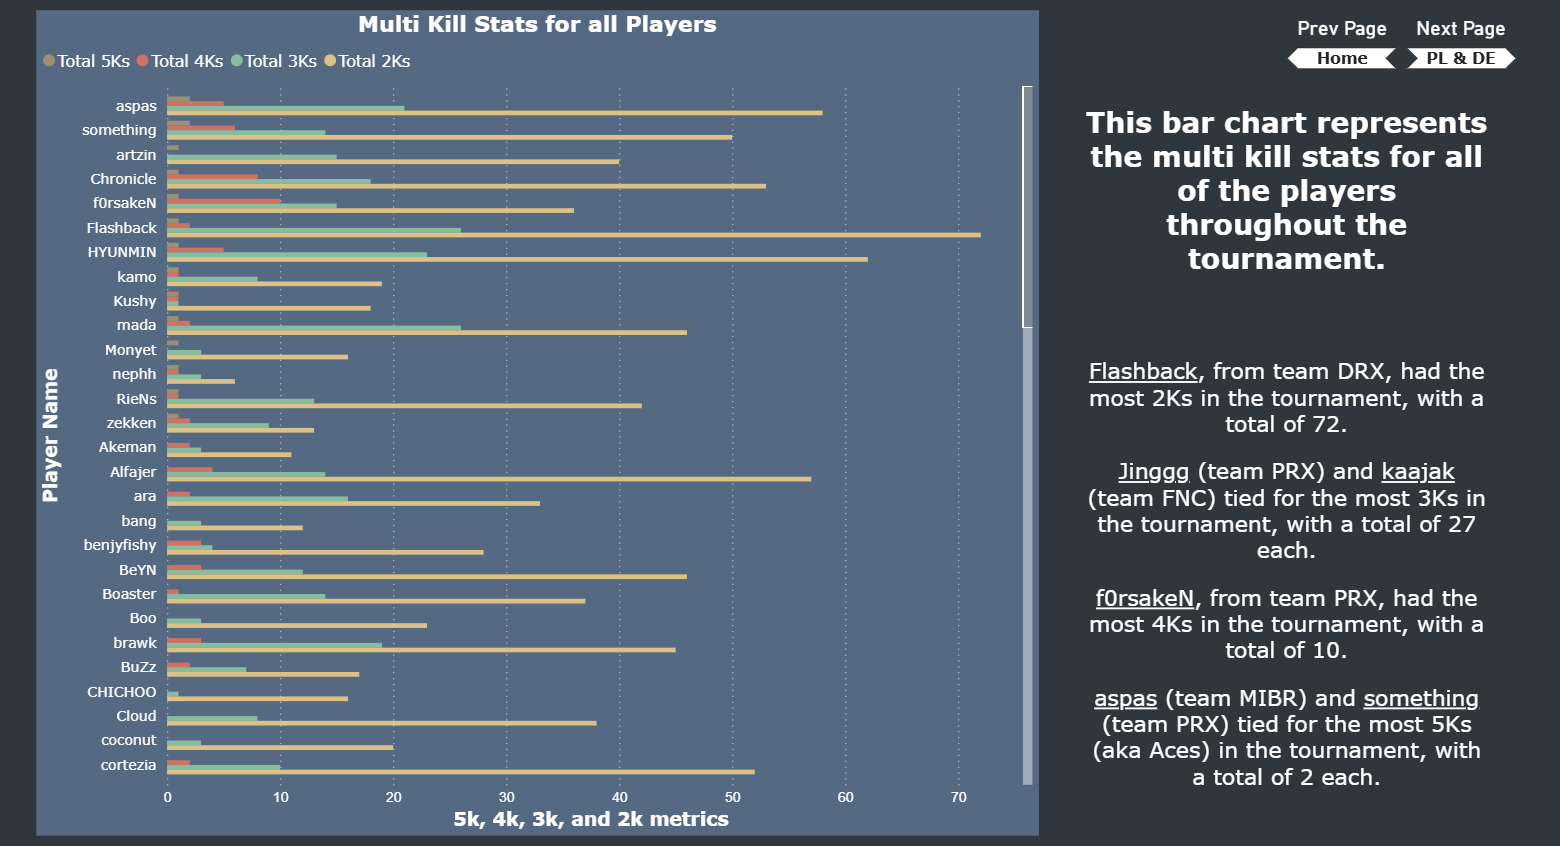

The dashboard page shown, as its layout file describes it:
{"tool":"powerbi","page":{"name":"Multi Kill","canvas":[1280,720],"ordinal":1},"visuals":[{"type":"clusteredBarChart","title":"Multi Kill Stats for all Players","fields":{"Y":["valorantproject player.FIVEK","valorantproject player.FOURK","valorantproject player.THREEK","valorantproject player.TWOK"],"Category":["valorantproject player.PlayerName"]},"box":[10,10,850,700],"z":0},{"type":"textbox","box":[895,85,350.6,625.6],"z":1000},{"type":"pageNavigator","title":"Next Page","box":[1170,10,100,50],"z":2000},{"type":"pageNavigator","title":"Prev Page","box":[1070,10,100,50],"z":3000}]}

Visuals, with their boxes on the page's 1280x720 design canvas (x1, y1, x2, y2). These are canvas units, not pixel positions in the 1560x846 screenshot, which may show the page scaled, cropped or inside an application window:
"Multi Kill Stats for all Players" clusteredBarChart: (left=10, top=10, right=860, bottom=710)
textbox: (left=895, top=85, right=1246, bottom=711)
"Next Page" pageNavigator: (left=1170, top=10, right=1270, bottom=60)
"Prev Page" pageNavigator: (left=1070, top=10, right=1170, bottom=60)
